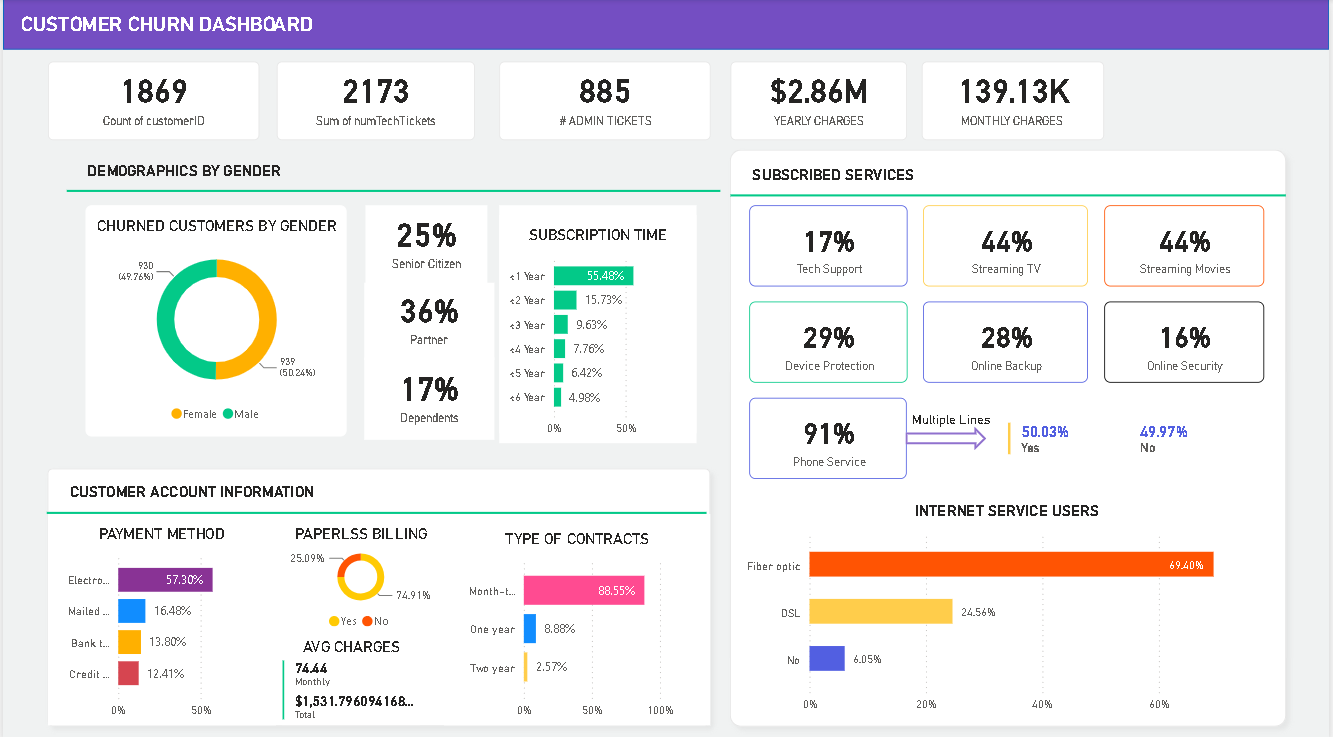

What the dashboard file says about the page in this screenshot:
{"tool":"powerbi","page":{"name":"Churn Dashboard","canvas":[1280,720],"ordinal":0},"visuals":[{"type":"shape","box":[0,0,1280,49],"z":0},{"type":"card","fields":{"Values":["Churn.% Tech Support"]},"box":[720,199,152.4,78.4],"z":0,"group":"g4"},{"type":"shape","box":[692,136,555,575],"z":1000},{"type":"card","fields":{"Values":["Churn.% Streaming TV"]},"box":[887.4,199,159.5,78.4],"z":1000,"group":"g4"},{"type":"donutChart","title":"CHURNED CUSTOMERS BY GENDER","fields":{"Category":["01 Churn-Dataset.gender"],"Y":["CountNonNull(01 Churn-Dataset.gender)"]},"box":[79.9,199.6,252.2,223.4],"z":1000,"group":"g1"},{"type":"shape","box":[702,123,536,133],"z":1500,"group":"g3"},{"type":"shape","box":[42,430,636.8,133],"z":1500,"group":"g2"},{"type":"textbox","box":[12,8,438,33],"z":2000},{"type":"textbox","box":[61.5,141.2,630.9,47.3],"z":2000,"group":"g1"},{"type":"textbox","box":[703.8,145,522.6,38],"z":2000,"group":"g3"},{"type":"card","fields":{"Values":["Churn.% Streaming Movies"]},"box":[1062.8,199,154.2,78.4],"z":2000,"group":"g4"},{"type":"textbox","box":[44.2,452,636.8,38],"z":2000,"group":"g2"},{"type":"card","fields":{"Values":["Churn.% of Senior Citizen"]},"box":[349.4,199.6,118,77.5],"z":3000,"group":"g1"},{"type":"card","fields":{"Values":["Churn.% Device Protection"]},"box":[720,291.6,152.4,78.4],"z":3000,"group":"g4"},{"type":"shape","box":[34,444,658,267],"z":3000},{"type":"card","fields":{"Values":["CountNonNull(Churn.customerID)"]},"box":[44,60,204,76],"z":4000},{"type":"card","fields":{"Values":["Churn.% of partner"]},"box":[348.3,274,125.5,74.5],"z":4000,"group":"g1"},{"type":"card","fields":{"Values":["Churn.% Online Backup"]},"box":[887.4,291.6,159.5,78.4],"z":4000,"group":"g4"},{"type":"shape","box":[61.5,146.2,630.9,78.5],"z":5000,"group":"g1"},{"type":"card","fields":{"Values":["Churn.% Online Sec"]},"box":[1062.8,291.6,154.2,78.4],"z":5000,"group":"g4"},{"type":"card","fields":{"Values":["Churn.% Phone Service"]},"box":[720,385,152,78],"z":5000},{"type":"card","fields":{"Values":["Sum(Churn.numTechTickets)"]},"box":[264,60,191,76],"z":6000},{"type":"card","fields":{"Values":["Churn.% of Dependents"]},"box":[348.3,346.5,125.5,79.5],"z":6000,"group":"g1"},{"type":"clusteredBarChart","title":"SUBSCRIPTION TIME","fields":{"Category":["Churn.Tenure(in years)"],"Y":["CountNonNull(Churn.Churn)"]},"box":[478.9,199,190.5,220.4],"z":7000},{"type":"clusteredBarChart","title":"SUBSCRIPTION TIME","fields":{"Category":["Churn.Tenure(in years)"],"Y":["CountNonNull(Churn.Churn)"]},"box":[478.9,208.6,190.5,220.4],"z":8000},{"type":"clusteredBarChart","title":"PAYMENT METHOD","fields":{"Category":["Churn.PaymentMethod"],"Y":["CountNonNull(Churn.PaymentMethod)"]},"box":[44,497,220,204],"z":9000},{"type":"card","fields":{"Values":["Sum(01 Churn-Dataset.TotalCharges)"]},"box":[702,60,170,76],"z":10000},{"type":"card","fields":{"Values":["Sum(01 Churn-Dataset.numAdminTickets)"]},"box":[478.9,60.4,204,76],"z":11000},{"type":"group","id":"g1","title":"Group 1","box":[61.5,141.2,630.9,284.8],"z":12000},{"type":"card","fields":{"Values":["Sum(01 Churn-Dataset.MonthlyCharges)"]},"box":[887,60,176,76],"z":13000},{"type":"donutChart","title":"PAPERLSS BILLING","fields":{"Category":["Churn.PaperlessBilling"],"Y":["CountNonNull(Churn.PaperlessBilling)"]},"box":[248,497,194,126],"z":14000},{"type":"multiRowCard","title":"AVG CHARGES","fields":{"Values":["Avg(Churn.MonthlyCharges)","Avg(Churn.TotalCharges)"]},"box":[264,606,143,95],"z":15000},{"type":"clusteredBarChart","title":"TYPE OF CONTRACTS","fields":{"Category":["Churn.Contract"],"Y":["CountNonNull(Churn.Contract)"]},"box":[426,497,257,204],"z":16000},{"type":"group","id":"g2","title":"Group 2","box":[42,430,639,133],"z":17000},{"type":"group","id":"g3","title":"Group 2","box":[702,123,536,133],"z":18000},{"type":"group","id":"g4","title":"Group 3","box":[720,199,497,171],"z":19000},{"type":"shape","box":[871,412,78,23],"z":20000},{"type":"textbox","box":[872,391,300,30],"z":21000},{"type":"multiRowCard","fields":{"Values":["Churn.% Yes-Multiple Lines","Churn.% No-Multiple Lines"]},"box":[965,404,252,53],"z":22000},{"type":"barChart","title":"INTERNET SERVICE USERS","fields":{"Category":["Churn.InternetService"],"Y":["CountNonNull(Churn.InternetService)"]},"box":[710,471,517,230],"z":23000}]}

Visuals, with their boxes in screenshot pixels (x1, y1, x2, y2), scaled from the page's 1280x720 canvas onto the 1333x737 screenshot:
shape: (0,0,1332,50)
card - Churn.% Tech Support: (750,204,909,284)
shape: (721,139,1299,728)
card - Churn.% Streaming TV: (924,204,1090,284)
"CHURNED CUSTOMERS BY GENDER" donutChart: (83,204,346,433)
shape: (731,126,1289,262)
shape: (44,440,707,576)
textbox: (12,8,469,42)
textbox: (64,145,721,193)
textbox: (733,148,1277,187)
card - Churn.% Streaming Movies: (1107,204,1267,284)
textbox: (46,463,709,502)
card - Churn.% of Senior Citizen: (364,204,487,284)
card - Churn.% Device Protection: (750,298,909,379)
shape: (35,454,721,728)
card - CountNonNull(Churn.customerID): (46,61,258,139)
card - Churn.% of partner: (363,280,493,357)
card - Churn.% Online Backup: (924,298,1090,379)
shape: (64,150,721,230)
card - Churn.% Online Sec: (1107,298,1267,379)
card - Churn.% Phone Service: (750,394,908,474)
card - Sum(Churn.numTechTickets): (275,61,474,139)
card - Churn.% of Dependents: (363,355,493,436)
"SUBSCRIPTION TIME" clusteredBarChart: (499,204,697,429)
"SUBSCRIPTION TIME" clusteredBarChart: (499,214,697,439)
"PAYMENT METHOD" clusteredBarChart: (46,509,275,718)
card - Sum(01 Churn-Dataset.TotalCharges): (731,61,908,139)
card - Sum(01 Churn-Dataset.numAdminTickets): (499,62,711,140)
"Group 1" group: (64,145,721,436)
card - Sum(01 Churn-Dataset.MonthlyCharges): (924,61,1107,139)
"PAPERLSS BILLING" donutChart: (258,509,460,638)
"AVG CHARGES" multiRowCard: (275,620,424,718)
"TYPE OF CONTRACTS" clusteredBarChart: (444,509,711,718)
"Group 2" group: (44,440,709,576)
"Group 2" group: (731,126,1289,262)
"Group 3" group: (750,204,1267,379)
shape: (907,422,988,445)
textbox: (908,400,1221,431)
multiRowCard - Churn.% Yes-Multiple Lines x Churn.% No-Multiple Lines: (1005,414,1267,468)
"INTERNET SERVICE USERS" barChart: (739,482,1278,718)
